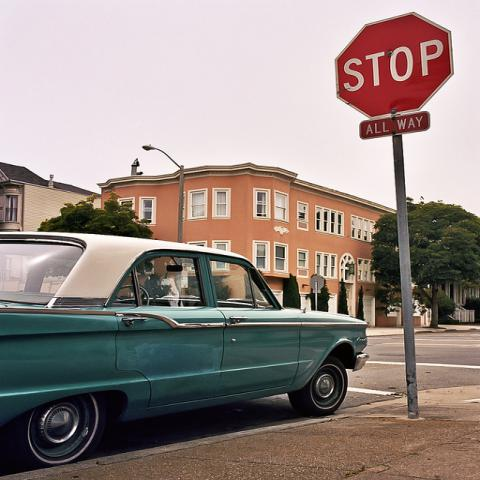car: (3, 233, 366, 463)
